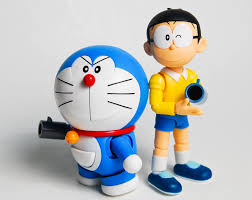doraemon: (53, 45, 149, 197)
